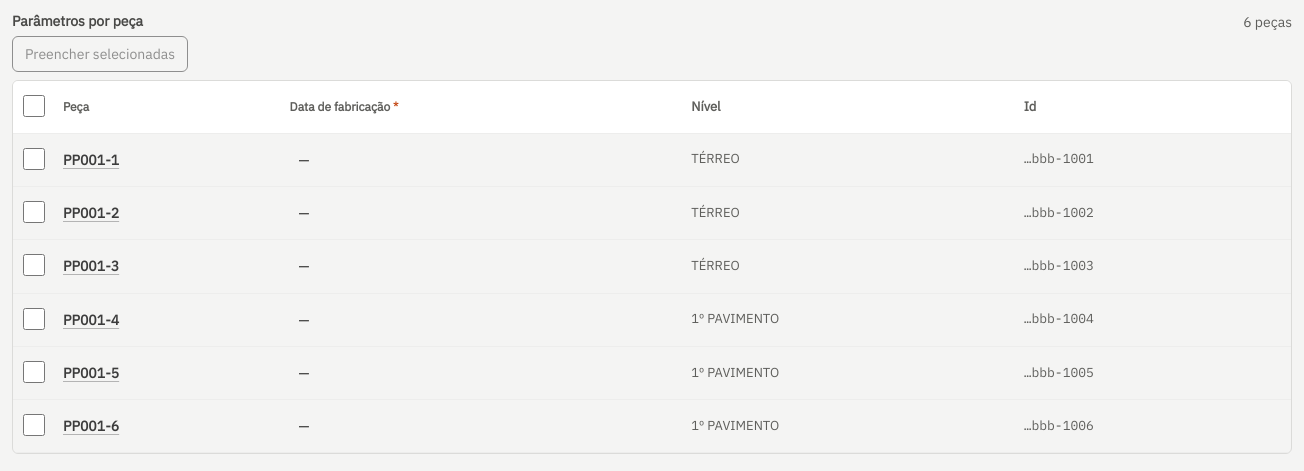
Test case: Parâmetros por peça (P4) › preencher a 3ª unidade de uma marca de 6 só muda essa peça
Click the button "—" in the row of "…bbb-1003" at coordinates (304, 266), box [290,246,679,286]
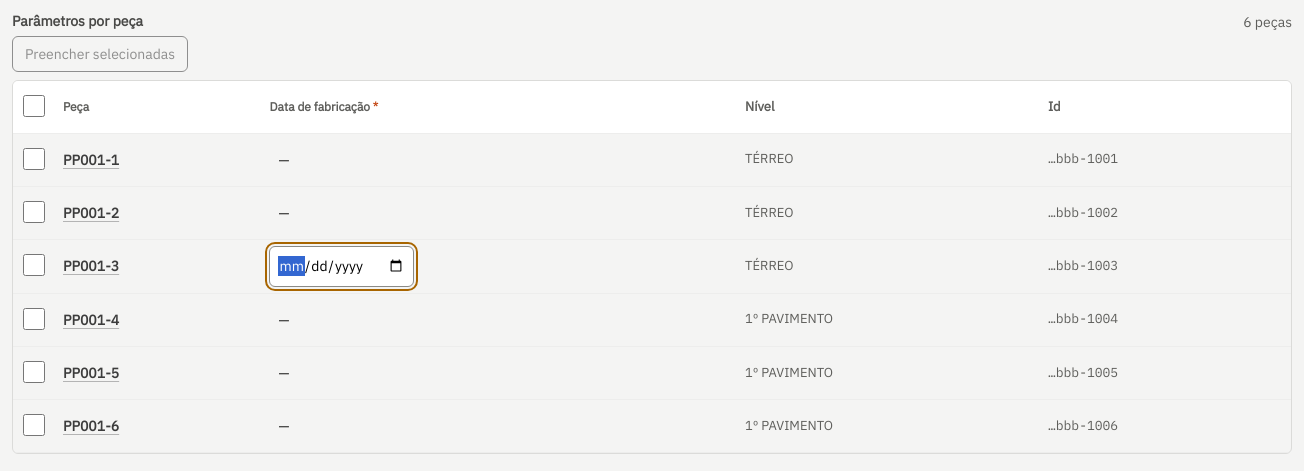
Type "2026-11-16" into the date field named "Data de fabricação de PP001-3" at coordinates (342, 266), box [270,246,414,287]
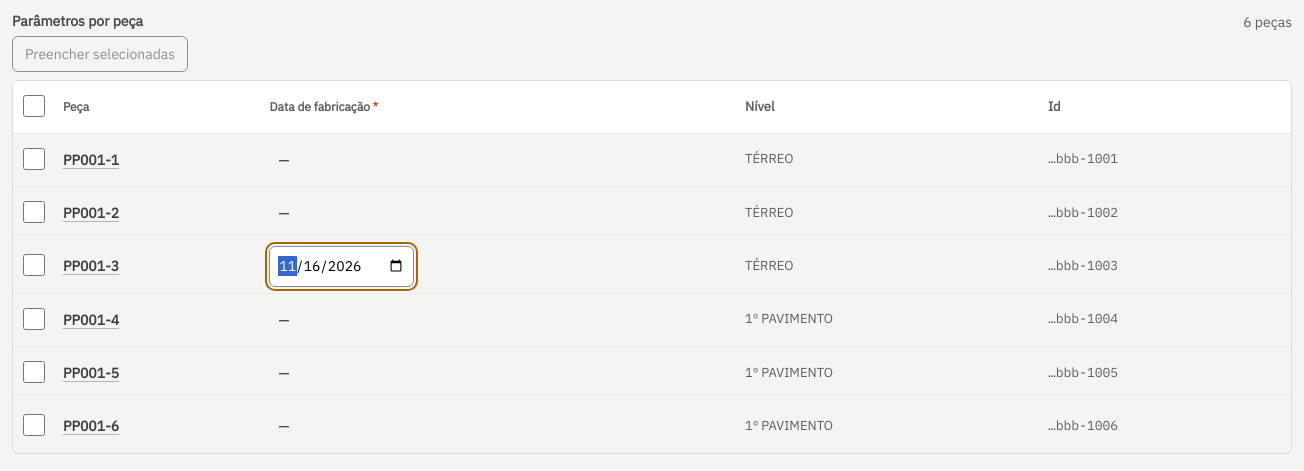
Press Enter
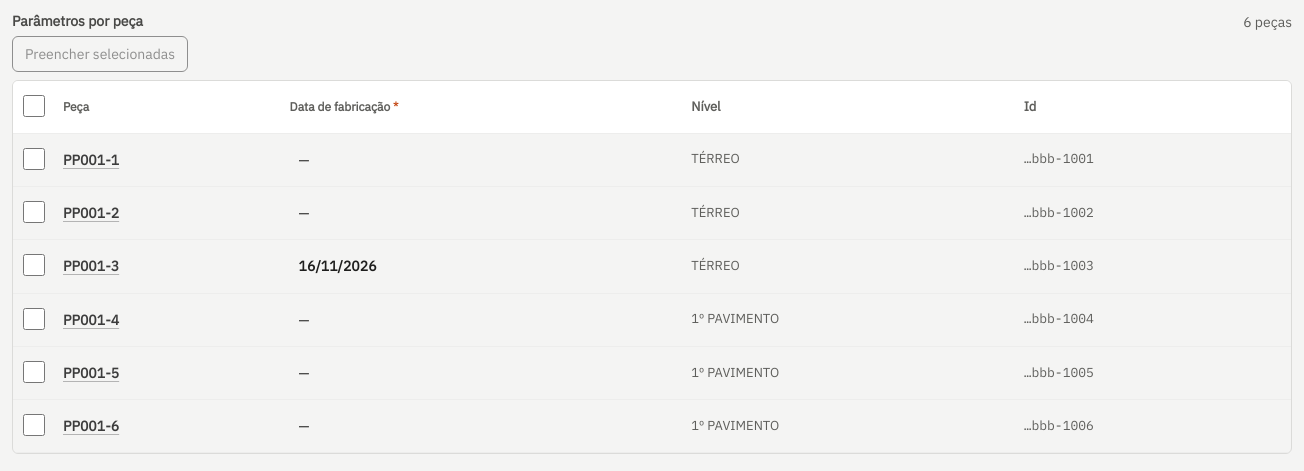
Expected: the button named "Data de fabricação de PP001-3: 16/11/2026" is shown, [290,246,679,286]
